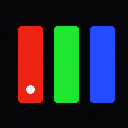0 point: (26, 85, 34, 93)
